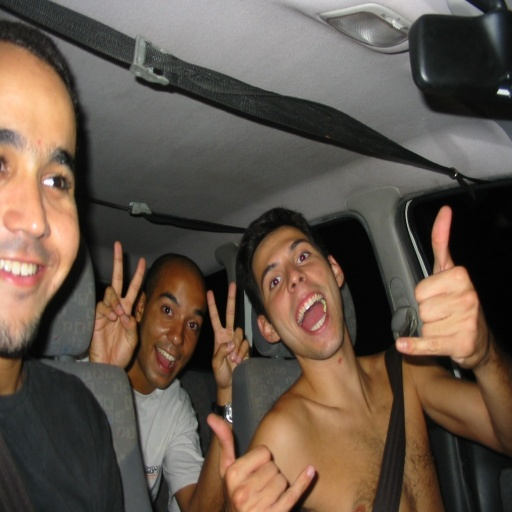hand: (407, 234, 501, 392), (206, 414, 316, 511), (88, 240, 146, 370), (206, 281, 249, 392)
